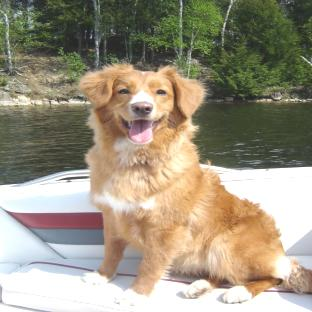Animal: (79, 64, 312, 306)
